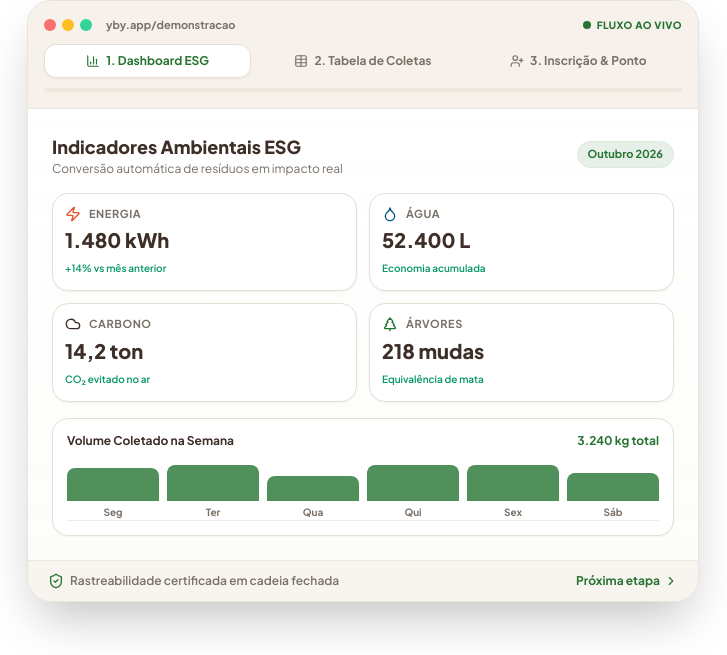
Test: Landing Page - Componentes do Hero e Rodapé › HeroInteractiveShowcase › deve alternar entre Dashboard, Tabela e Inscrição através das abas interativas
This screenshot has width=727, height=655.
Check: the heading "Indicadores Ambientais ESG" is shown, box left=52, top=132, right=343, bottom=160
Check: the text "1.480 kWh" is shown, box left=65, top=227, right=169, bottom=252
Note: Clica na aba 2. Tabela de Coletas
Click the button "2. Tabela de Coletas" at [363, 60], box left=259, top=44, right=467, bottom=78
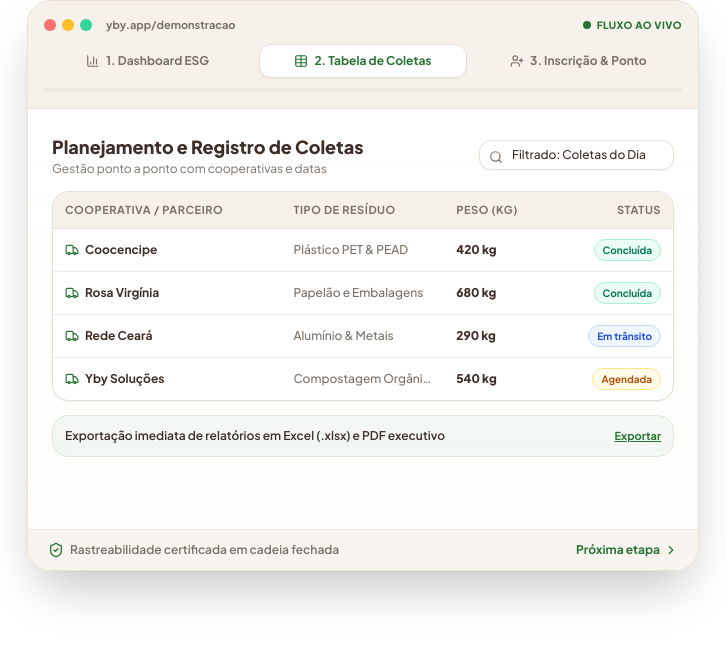
Check: the heading "Planejamento e Registro de Coletas" is shown, box left=52, top=132, right=364, bottom=160
Check: the text "Coocencipe" is shown, box left=85, top=242, right=157, bottom=258
Check: the text "Rosa Virgínia" is shown, box left=85, top=284, right=159, bottom=300
Note: Clica na aba 3. Inscrição & Ponto
Click the button "3. Inscrição & Ponto" at [578, 60], box left=475, top=44, right=682, bottom=78
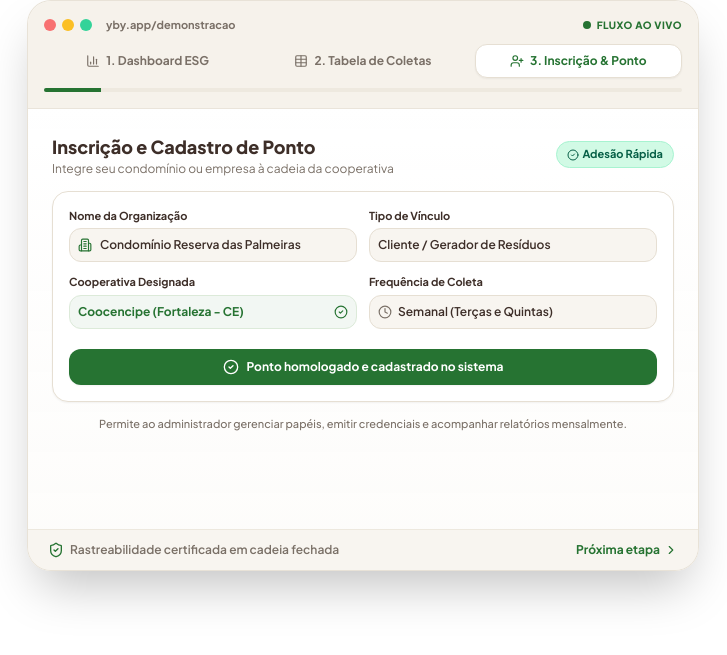
Check: the heading "Inscrição e Cadastro de Ponto" is shown, box left=52, top=134, right=316, bottom=158
Check: the text "Condomínio Reserva das Palmeiras" is shown, box left=100, top=237, right=301, bottom=253
